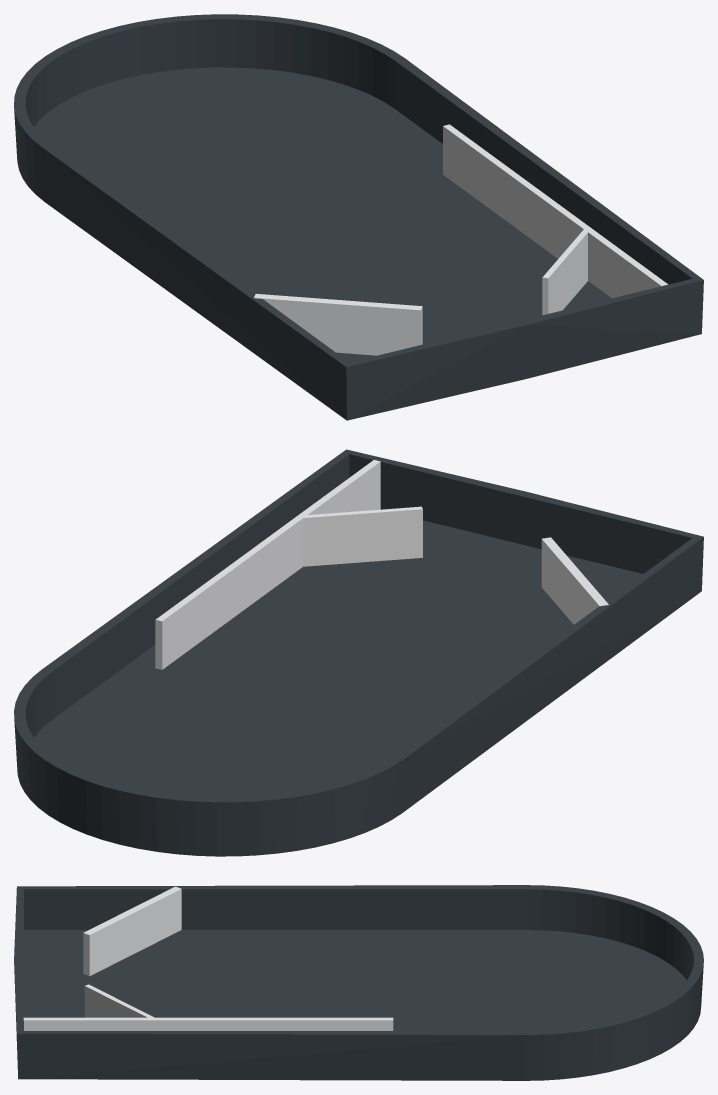
The model's file is board.obj.
3 views of the same model, one above another, from view 1: azimuth 30°, elevation 25°; view 2: azimuth 150°, elevation 25°; view 3: azimuth 270°, elevation 25° (orthographic). The views are drawn at different scales.
Parts seen in each view (by area): view 1: Circle, Cube_Cube.001, Cube.002_Cube.004, Cube.001_Cube.002; view 2: Circle, Cube_Cube.001, Cube.001_Cube.002, Cube.002_Cube.004; view 3: Circle, Cube_Cube.001, Cube.002_Cube.004, Cube.001_Cube.002.
Part boxes in pixels (x1=…): Circle: x1=14, y1=14, x2=703, y2=420; Cube_Cube.001: x1=443, y1=124, x2=667, y2=298; Cube.002_Cube.004: x1=254, y1=293, x2=422, y2=355; Cube.001_Cube.002: x1=542, y1=229, x2=589, y2=315; Circle: x1=14, y1=449, x2=703, y2=856; Cube_Cube.001: x1=155, y1=460, x2=380, y2=669; Cube.001_Cube.002: x1=303, y1=506, x2=422, y2=566; Cube.002_Cube.004: x1=541, y1=537, x2=608, y2=624; Circle: x1=14, y1=885, x2=703, y2=1080; Cube_Cube.001: x1=23, y1=1017, x2=393, y2=1030; Cube.002_Cube.004: x1=83, y1=886, x2=181, y2=976; Cube.001_Cube.002: x1=84, y1=984, x2=154, y2=1018.
Bounding box in the file's own units: 6.91 × 1.08 × 13.44.
Materials: 2 (2 with a texture image).
